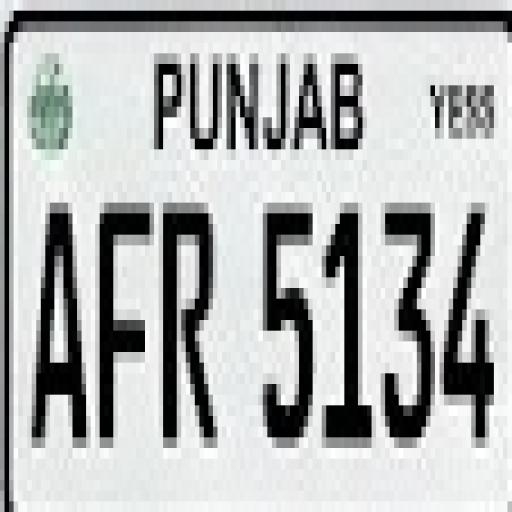1: (322, 199, 377, 451)
3: (380, 200, 436, 442)
4: (442, 196, 501, 459)
5: (258, 197, 320, 445)
A: (33, 205, 88, 454)
F: (95, 200, 152, 455)
R: (160, 199, 232, 446)
